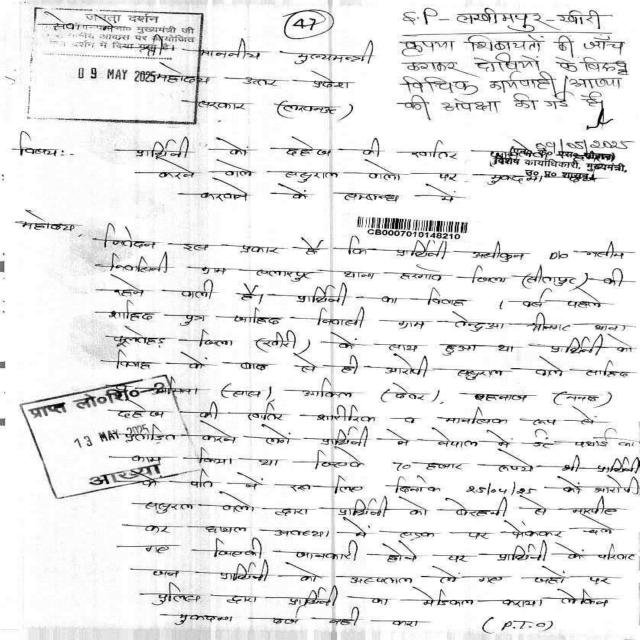antritgovtstamp: (7, 372, 206, 502)
barcode: (347, 213, 474, 241)
jantadarsan: (31, 9, 203, 124)
signnamestamp: (489, 97, 633, 186)
